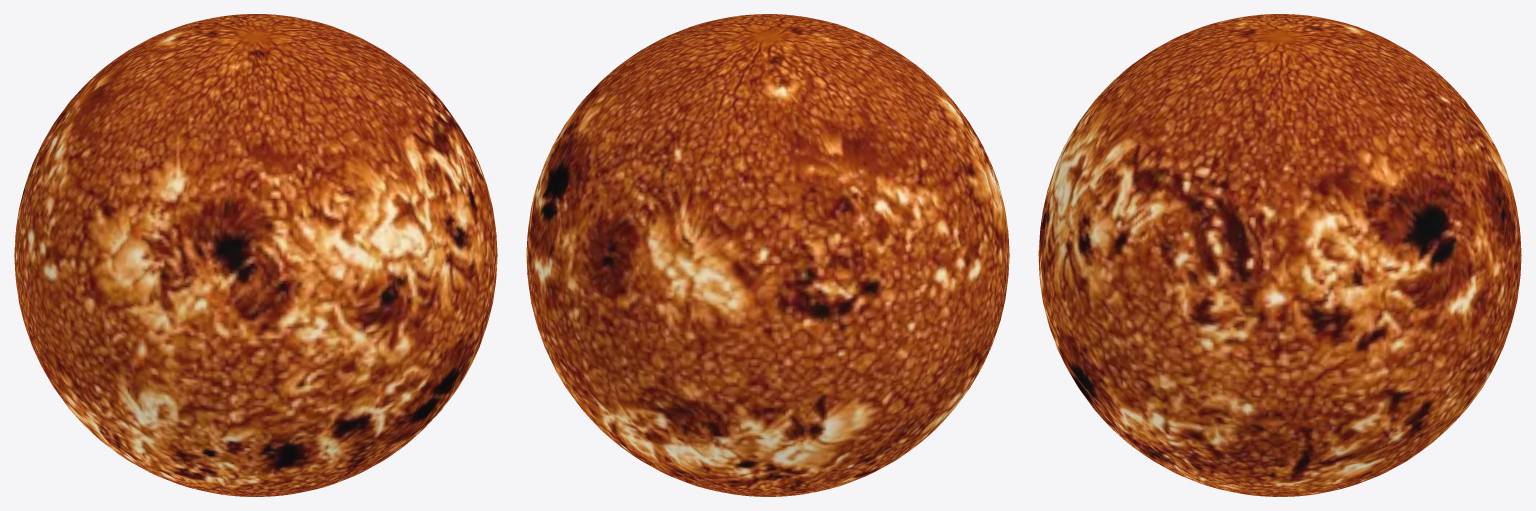
Rendered from sol_lod.glb.
3 views of the same model, side by side, from view 1: azimuth 30°, elevation 25°; view 2: azimuth 150°, elevation 25°; view 3: azimuth 270°, elevation 25° (orthographic).
Visible parts, largest first — view 1: Sun; view 2: Sun; view 3: Sun.
Part boxes in pixels (x1=…): Sun: x1=14, y1=14, x2=497, y2=496; Sun: x1=526, y1=14, x2=1009, y2=496; Sun: x1=1038, y1=14, x2=1521, y2=496.
Bounding box in the file's own units: 2 × 2 × 2.
Materials: 1 (1 with a texture image).
